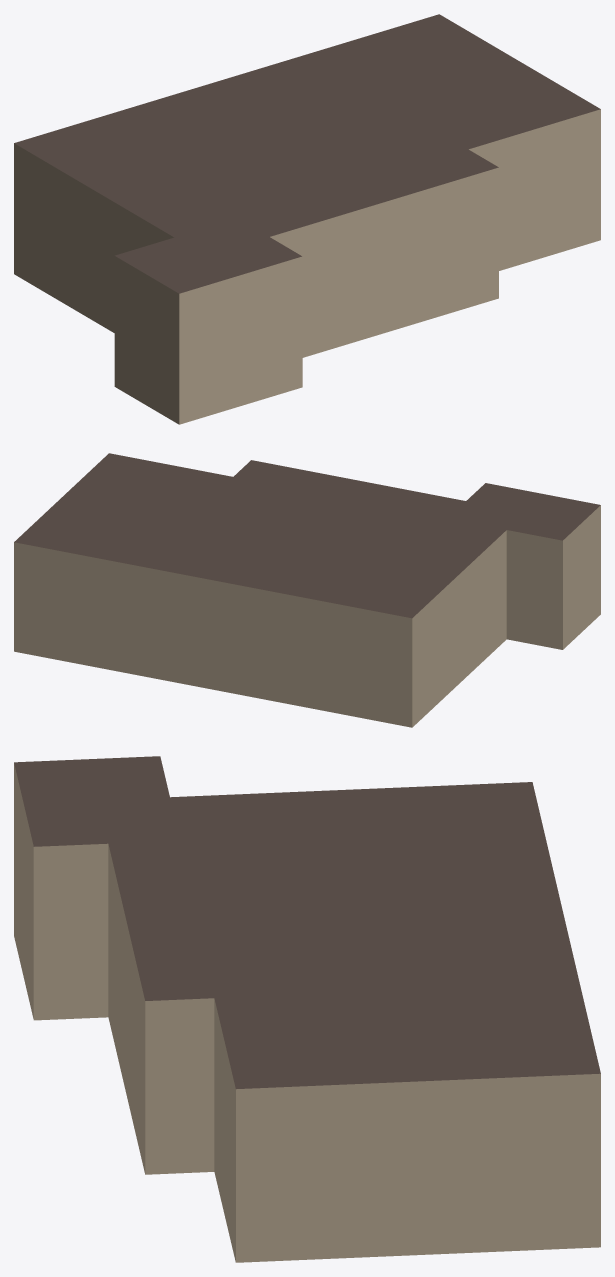
The picture shows the model from 3 angles, top to bottom: view 1: azimuth 30°, elevation 25°; view 2: azimuth 150°, elevation 25°; view 3: azimuth 270°, elevation 25°; orthographic projection. The views are drawn at different scales.
Parts seen in each view (by area): view 1: HP-w1435372639; view 2: HP-w1435372639; view 3: HP-w1435372639.
Boxes of the visible parts, <box> form: HP-w1435372639: <box>14,14,600,424</box>; HP-w1435372639: <box>14,453,600,727</box>; HP-w1435372639: <box>14,756,600,1262</box>.
Size of the model in its own units: 37.02 by 9 by 27.57.
